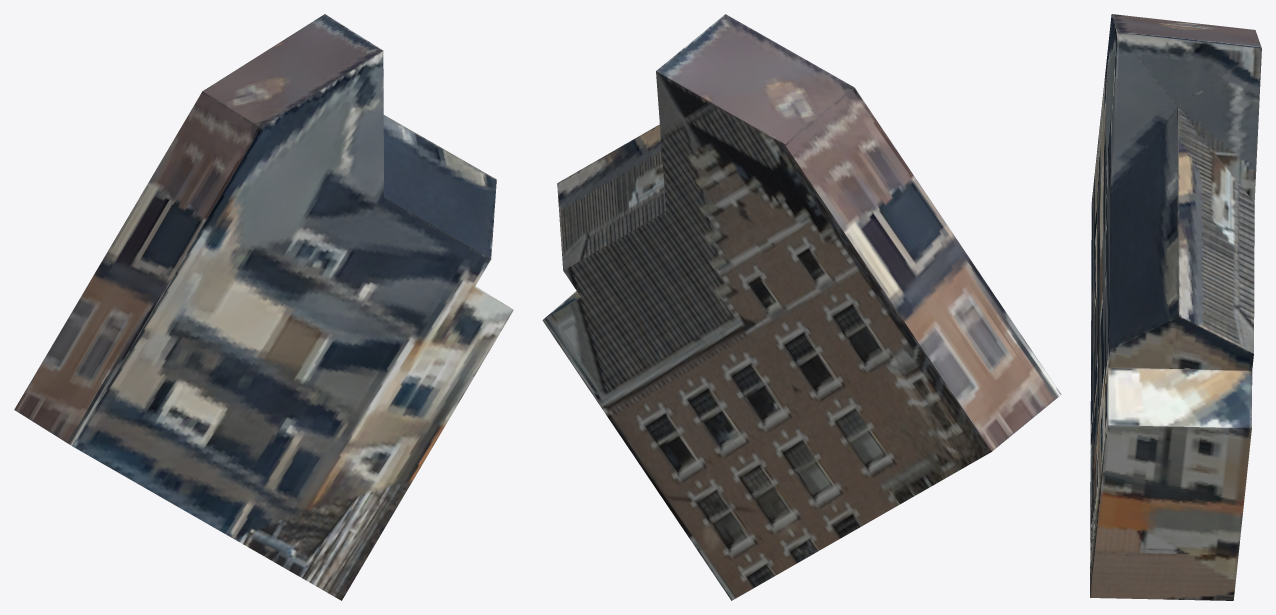
3 views of the same model, side by side, from view 1: azimuth 30°, elevation 25°; view 2: azimuth 150°, elevation 25°; view 3: azimuth 270°, elevation 25° (orthographic). The views are drawn at different scales.
Visible parts, largest first — view 1: BAG_0599100000671721 (×3); view 2: BAG_0599100000671721 (×3); view 3: BAG_0599100000671721 (×5).
Part boxes in pixels (left/top/right/bottom): BAG_0599100000671721 (×3): left=14, top=14, right=513, bottom=600; BAG_0599100000671721 (×3): left=542, top=14, right=1061, bottom=600; BAG_0599100000671721 (×5): left=1090, top=14, right=1261, bottom=600.
Bounding box in the file's own units: 19.77 × 21.72 × 5.64.
Materials: 5 (5 with a texture image).
